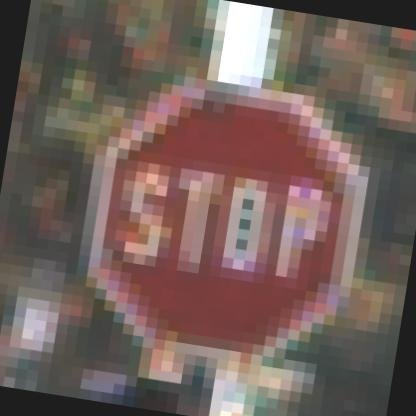stop: (77, 65, 376, 378)
